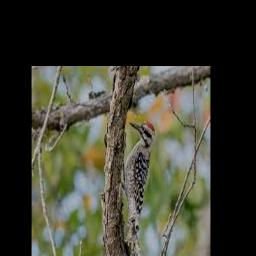Woodpecker: (122, 121, 155, 256)
